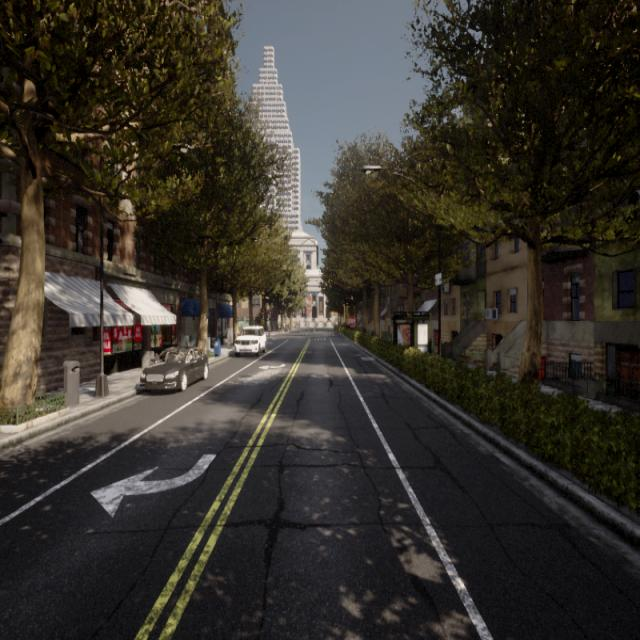stop sign: (344, 308, 361, 332)
